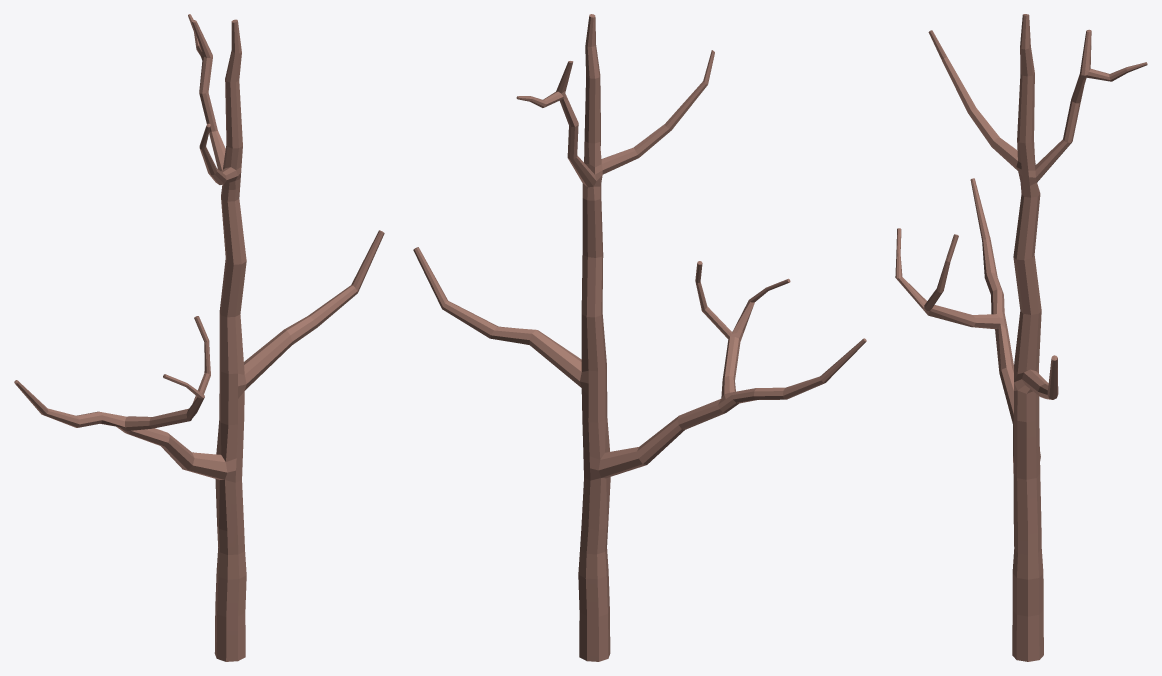
The model's file is Bare_Tree.fbx.
3 renders of one model, left to right at view 1: azimuth 30°, elevation 25°; view 2: azimuth 150°, elevation 25°; view 3: azimuth 270°, elevation 25°, orthographic.
Visible parts, largest first — view 1: AncientTree; view 2: AncientTree; view 3: AncientTree.
Boxes of the visible parts, x1,y1,x2,y2 form: AncientTree: [14, 14, 384, 661]; AncientTree: [413, 14, 866, 661]; AncientTree: [895, 14, 1147, 661].
Bounding box in the file's own units: 5016 × 7422 × 2639.
